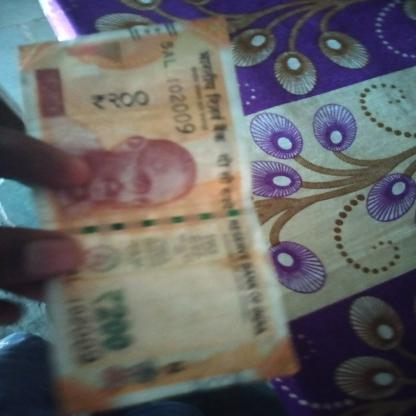New200Front: (24, 40, 281, 394)
